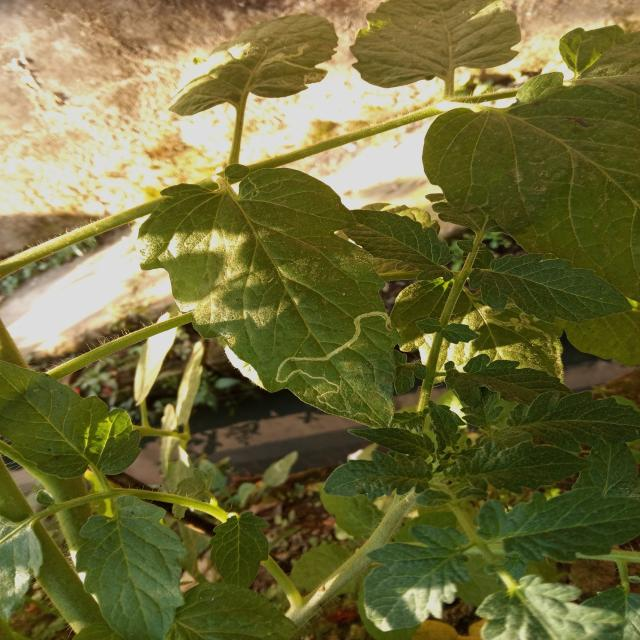Tuta absoluta: (272, 281, 398, 419)
